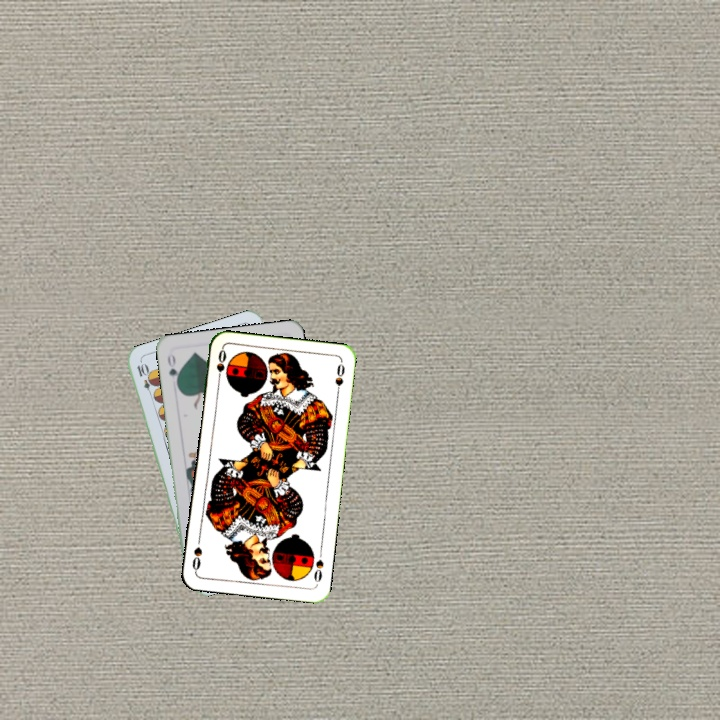E10: (133, 359, 156, 399)
GO: (163, 350, 182, 390)
SO: (212, 346, 229, 386), (310, 546, 326, 587)
